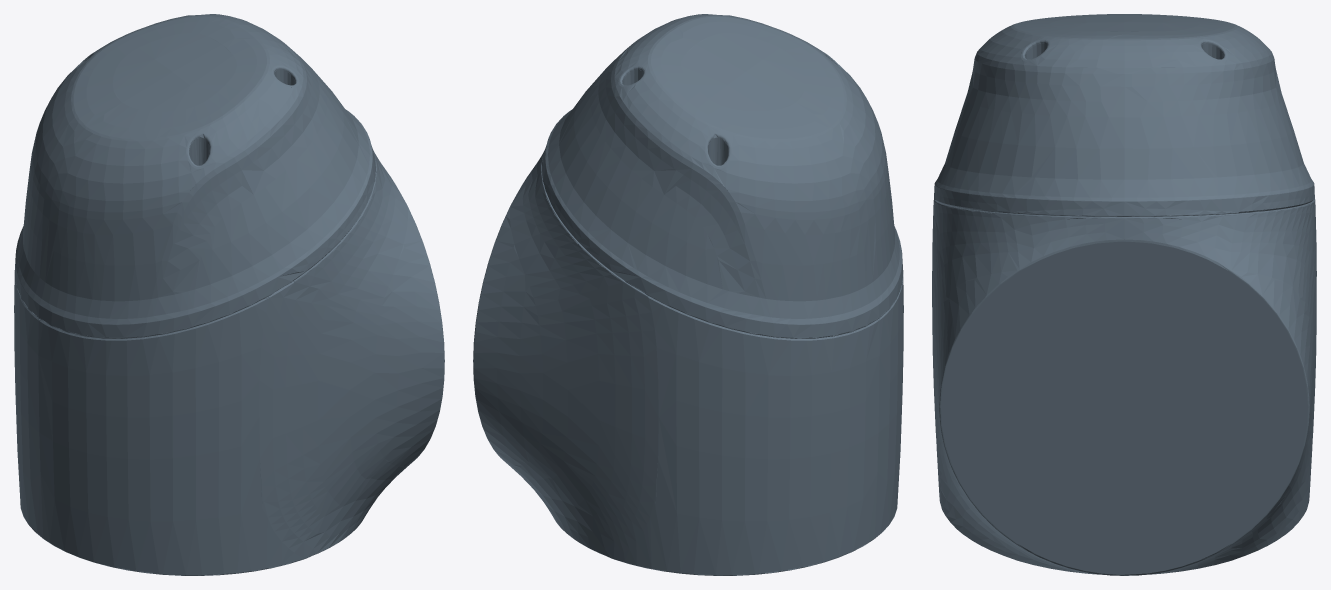
3 views of the same model, side by side, from view 1: azimuth 30°, elevation 25°; view 2: azimuth 150°, elevation 25°; view 3: azimuth 270°, elevation 25° (orthographic). The views are drawn at different scales.
Parts seen in each view (by area): view 1: A0509_2_0; view 2: A0509_2_0; view 3: A0509_2_0.
Part boxes in pixels (left/top/right/bottom): A0509_2_0: left=14, top=14, right=444, bottom=575; A0509_2_0: left=473, top=14, right=903, bottom=575; A0509_2_0: left=932, top=14, right=1316, bottom=575.
Size of the model in its own units: 125 by 122 by 170.
